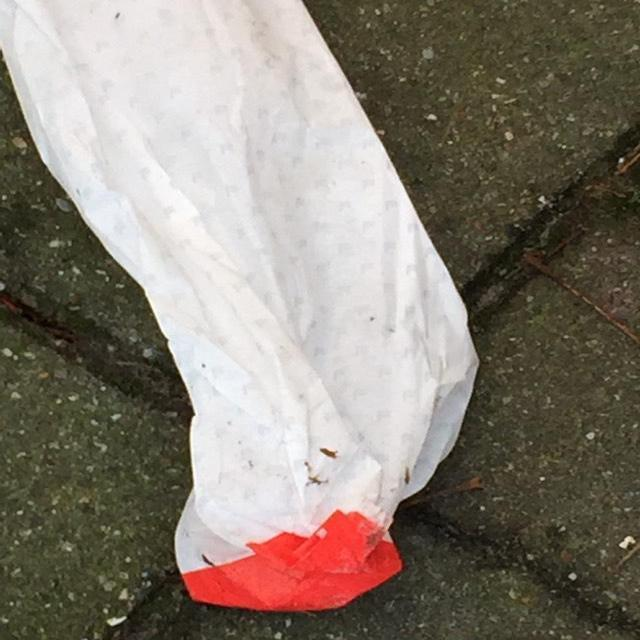Paper: (0, 2, 482, 617)
